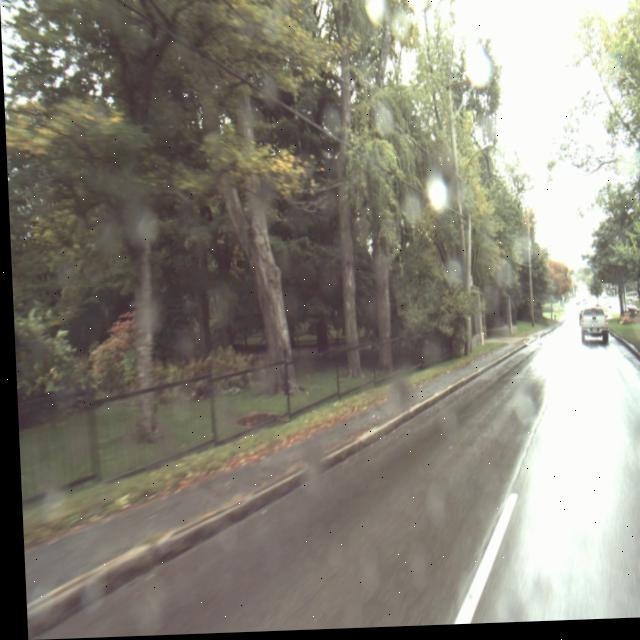car: (576, 312, 605, 351)
